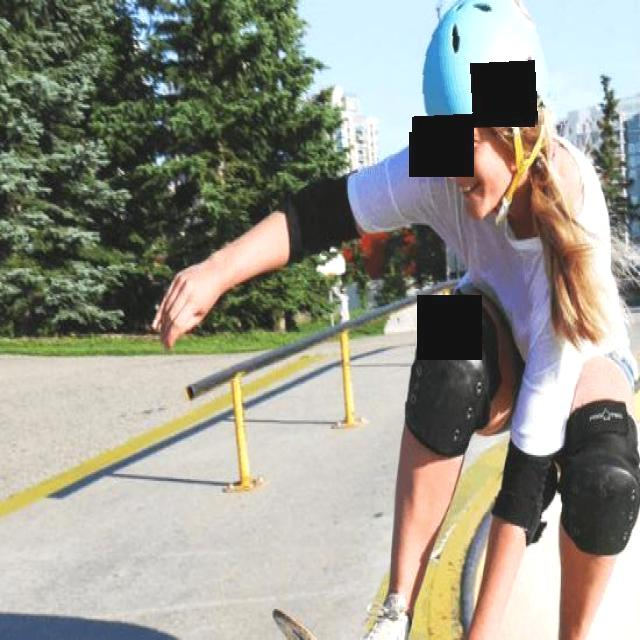helmet: (382, 0, 595, 129)
